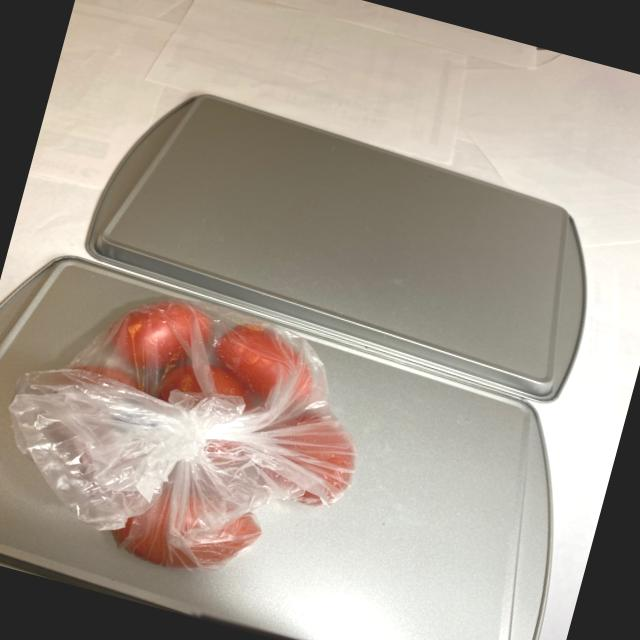tomato: (16, 273, 379, 606)
